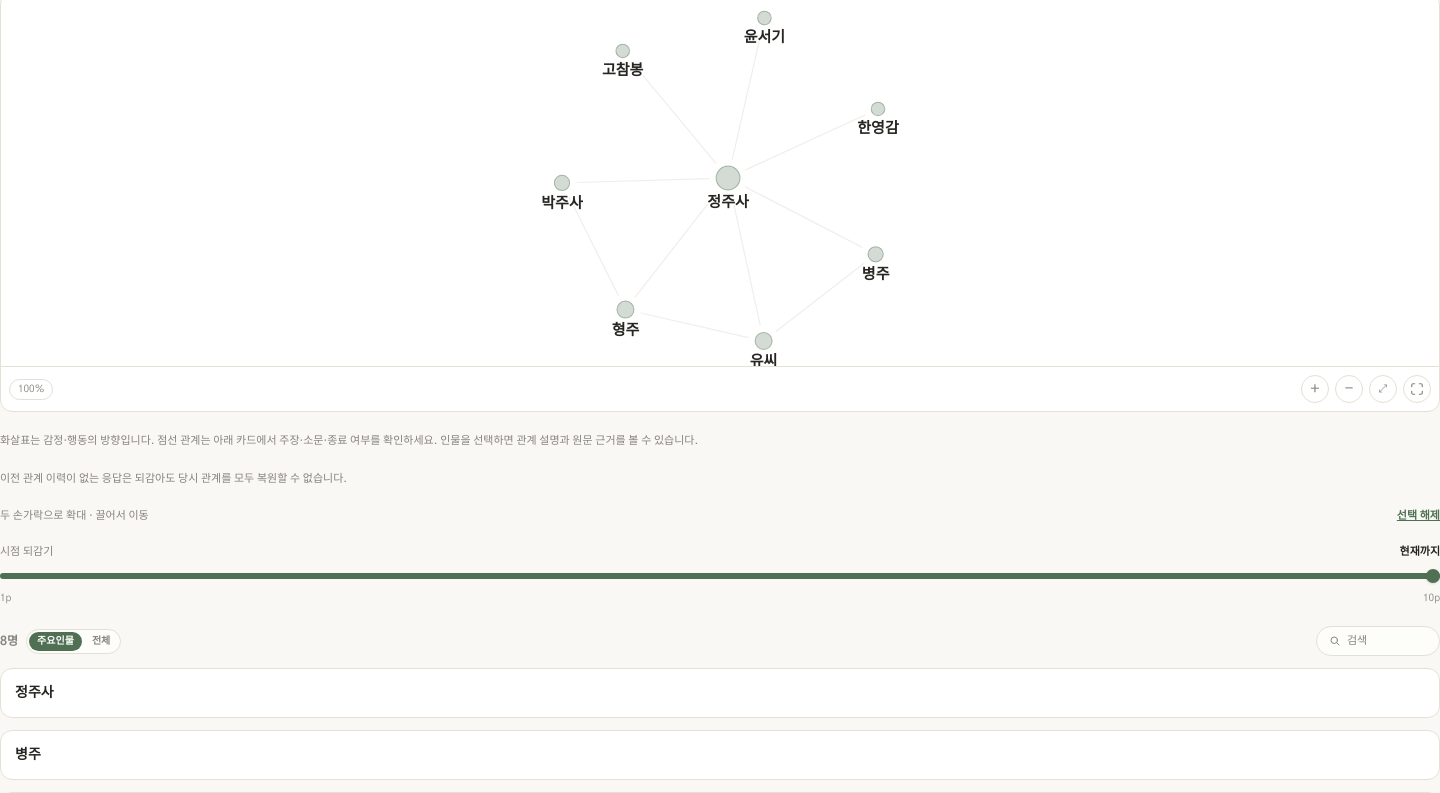
RelationshipTab › 주요인물/전체 토글 › 걸러진 인물도 검색으로 찾아 선택하면 "전체"로 전환되며 보인다 — 완전히 숨기지 않는다
Expected: the text "최차부" is not shown
Type "최차부" into the field named "인물 검색" at (1387, 641), box [1347,633,1427,649]
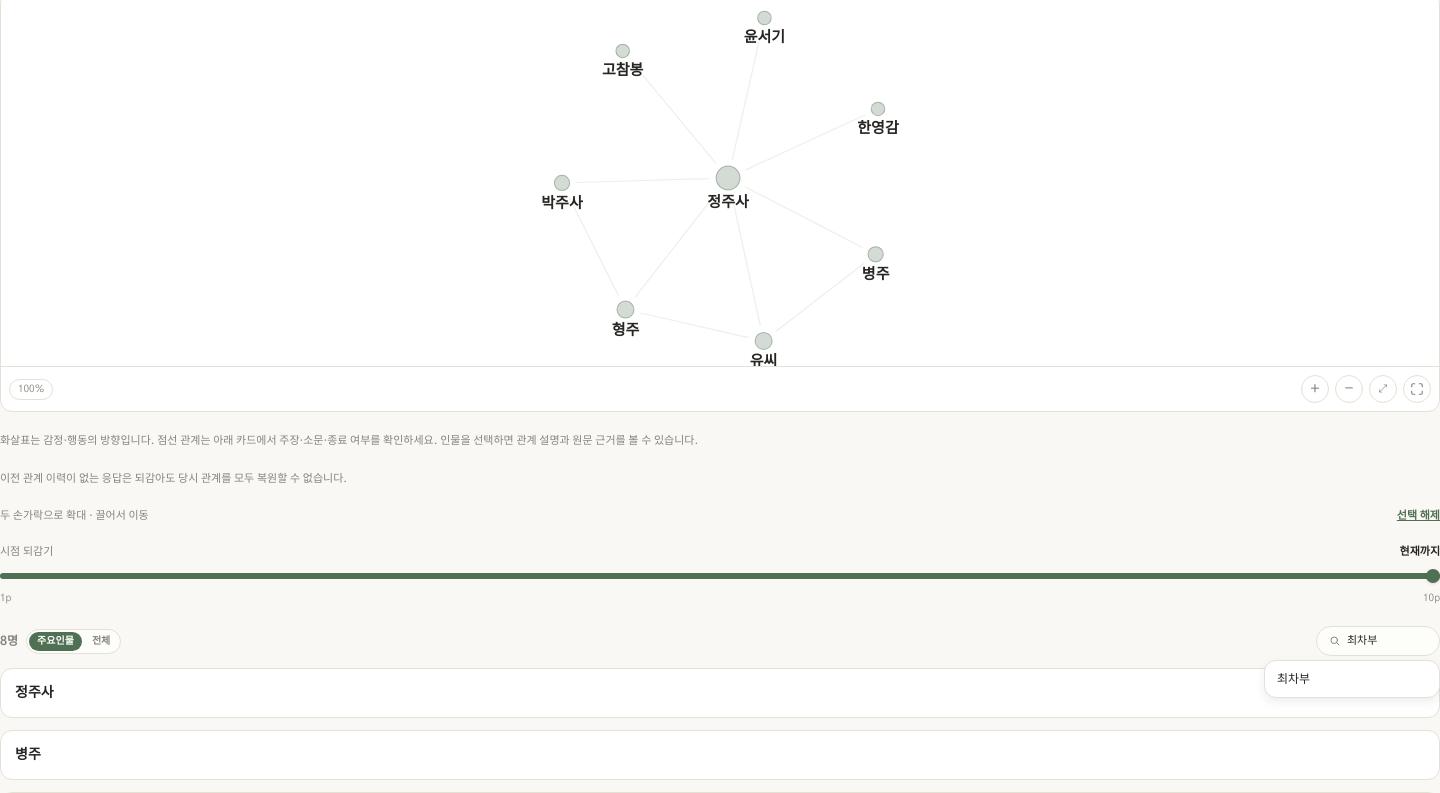
Click the button "최차부" at (1352, 679), box [1265,665,1439,693]
(page scrolled)
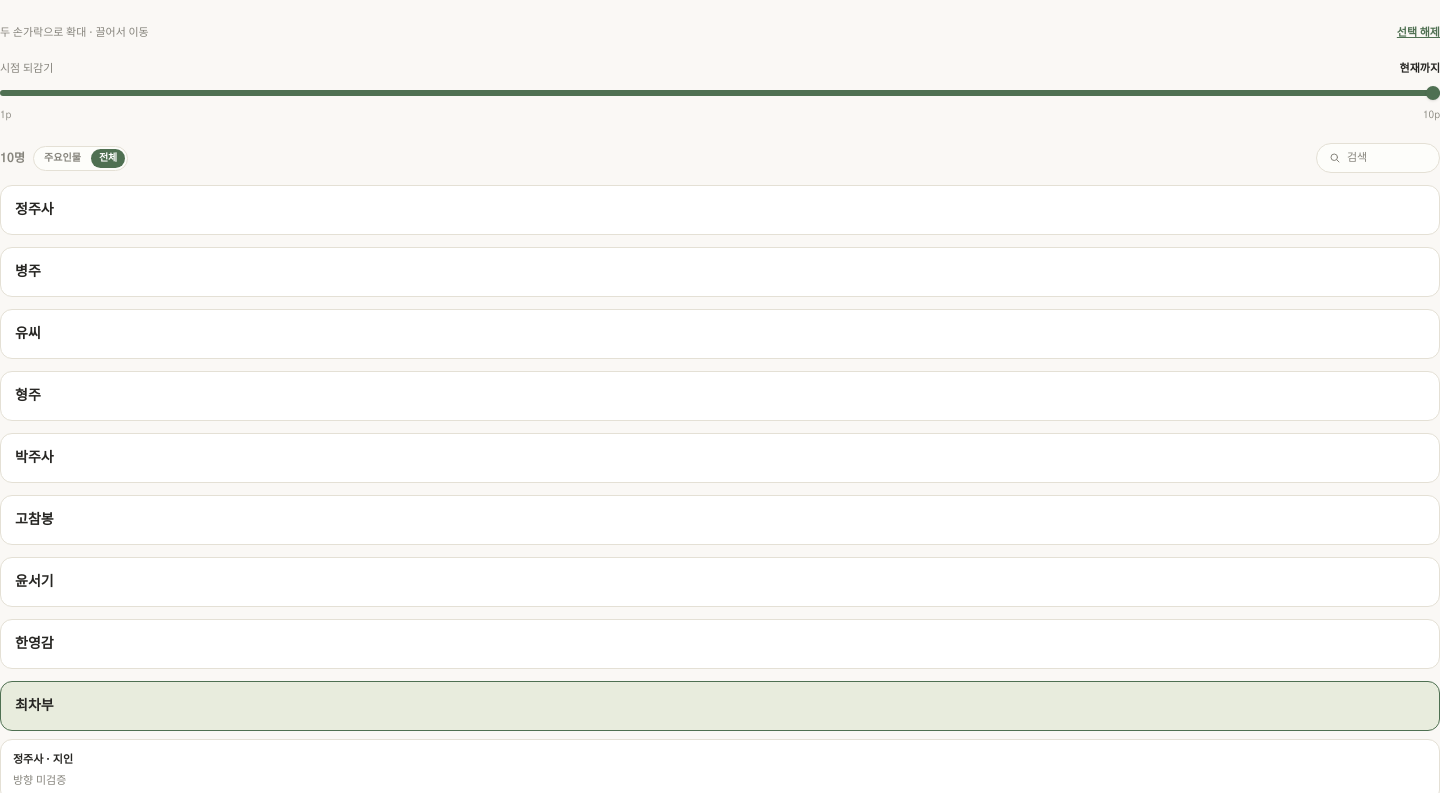
Result: the text "최차부" is shown at [15,696,54,716]
Result: the text "지인" is shown at [53,754,73,765]
